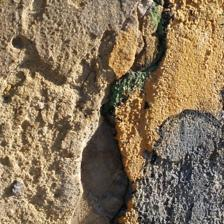Crack: (5, 13, 135, 114), (26, 116, 182, 172)
